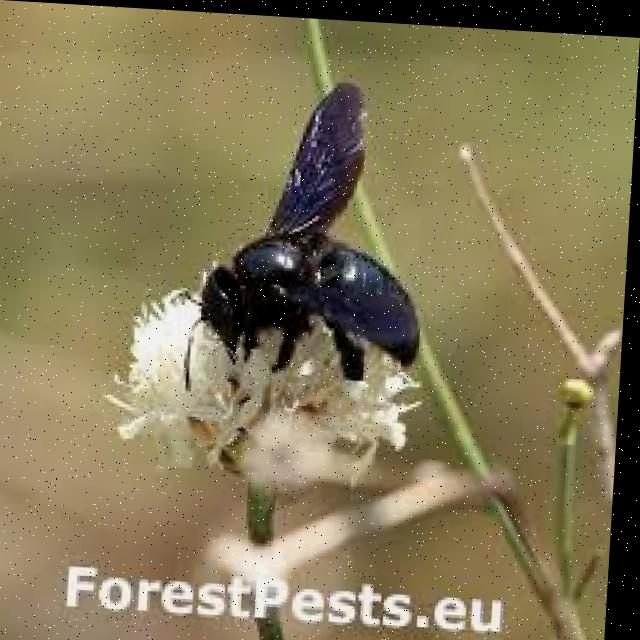Xylocopa: (203, 68, 476, 391)
